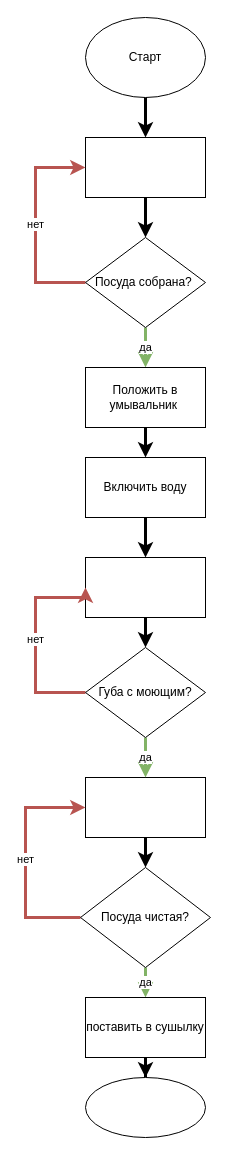
Some shapes in this 228 by 1155 pixel diagram are drawn without their labels. Here are the shapes that lost their labels. From the top down, the centre of each, then its label:
At point (145, 167): "Собрать всю посуду".
At point (145, 587): "Взять губку с моющим".
At point (145, 807): "Мыть посуду".
At point (145, 1107): "Конец".
